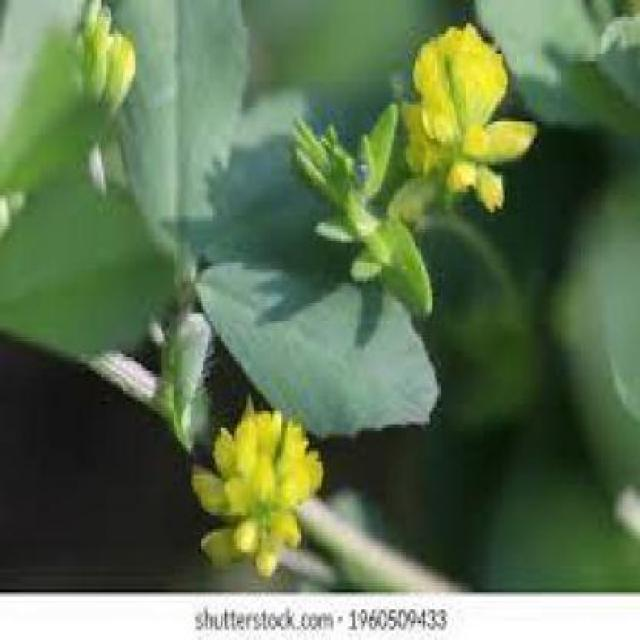flower: (393, 12, 532, 220), (189, 389, 316, 585)
